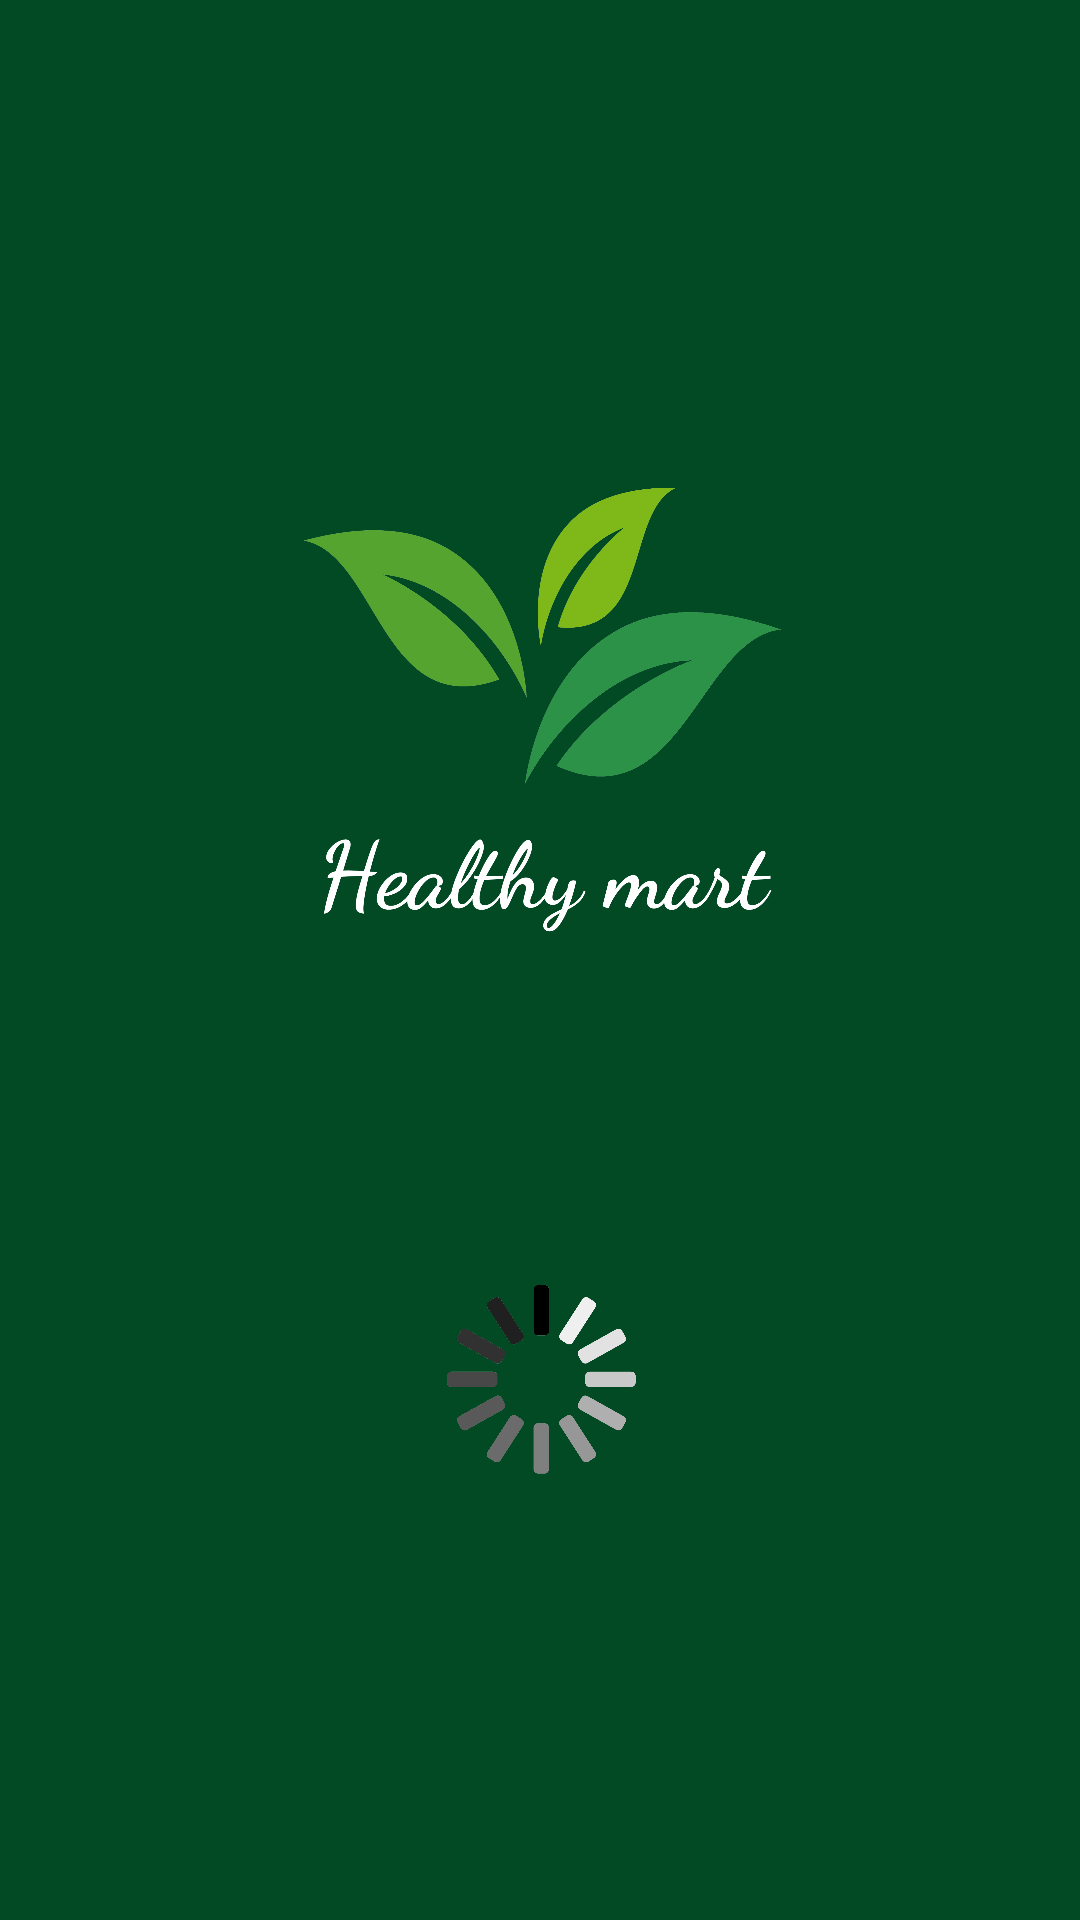

Icon bounding boxes for this 1080w x 1920h phone screenshot, format bbox=[x1, y1, x2, y2]:
load: bbox=[447, 1285, 636, 1474]
